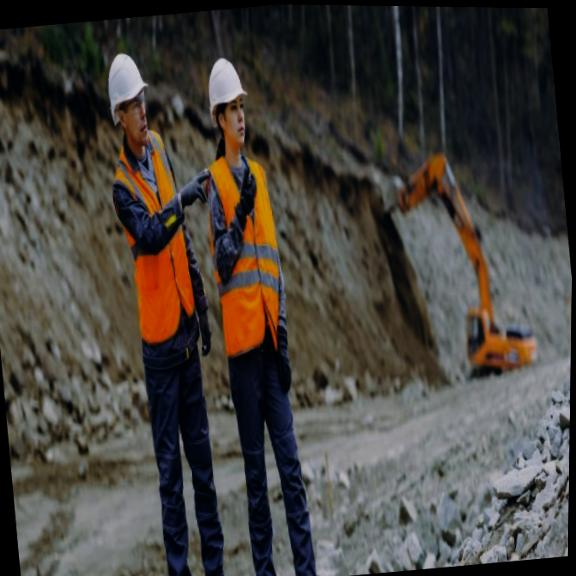safety_vest: (202, 141, 298, 371), (106, 133, 206, 351)
